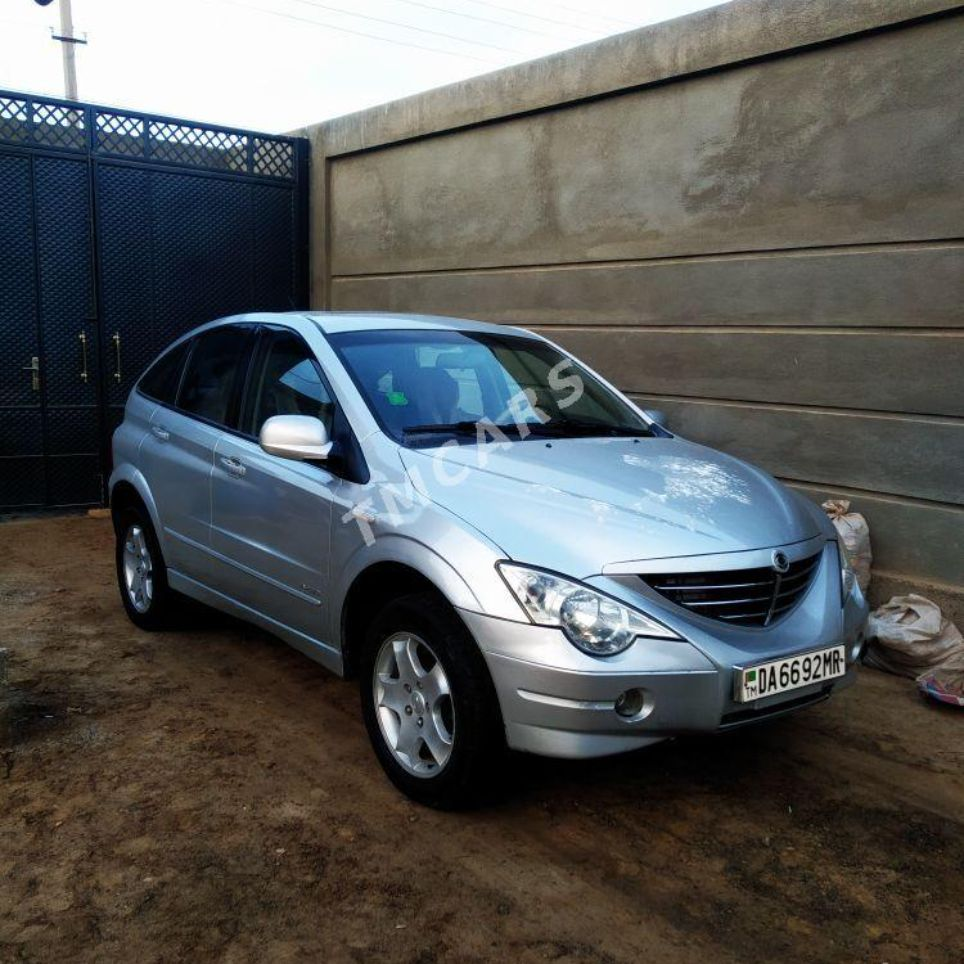license plate: (736, 642, 852, 705)
truck: (97, 293, 891, 816)
